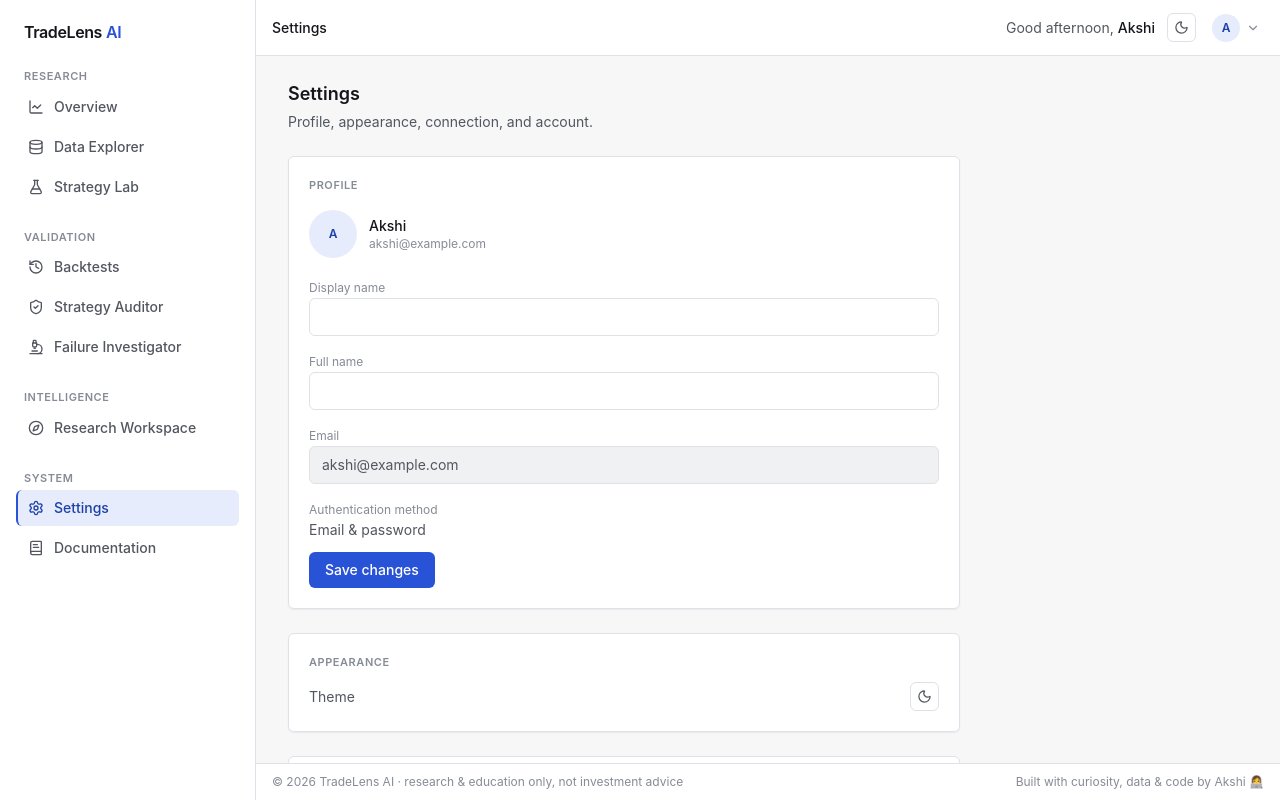
Test: SettingsPage profile update › updates the top-bar greeting immediately after a display-name save, without logout/login
Expected: the heading "Settings" is shown, x1=288 y1=83 x2=360 y2=104
Expected: the text "Akshi" next to "Good afternoon" is shown, x1=1118 y1=18 x2=1155 y2=36
Type "New Display" into the field labelled "Display name". click: (624, 316)
box: x1=309 y1=298 x2=939 y2=336
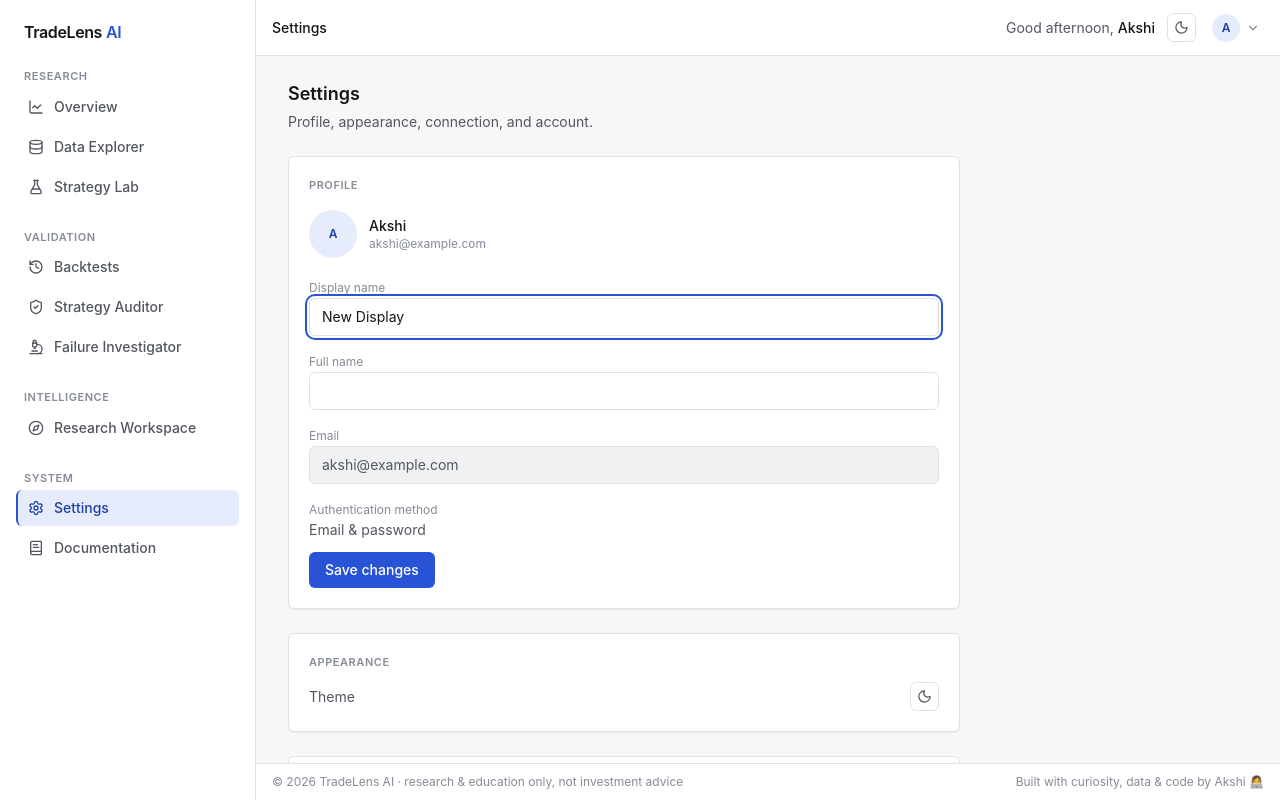
Submit the form labelled "Display name", box x1=309 y1=274 x2=939 y2=588
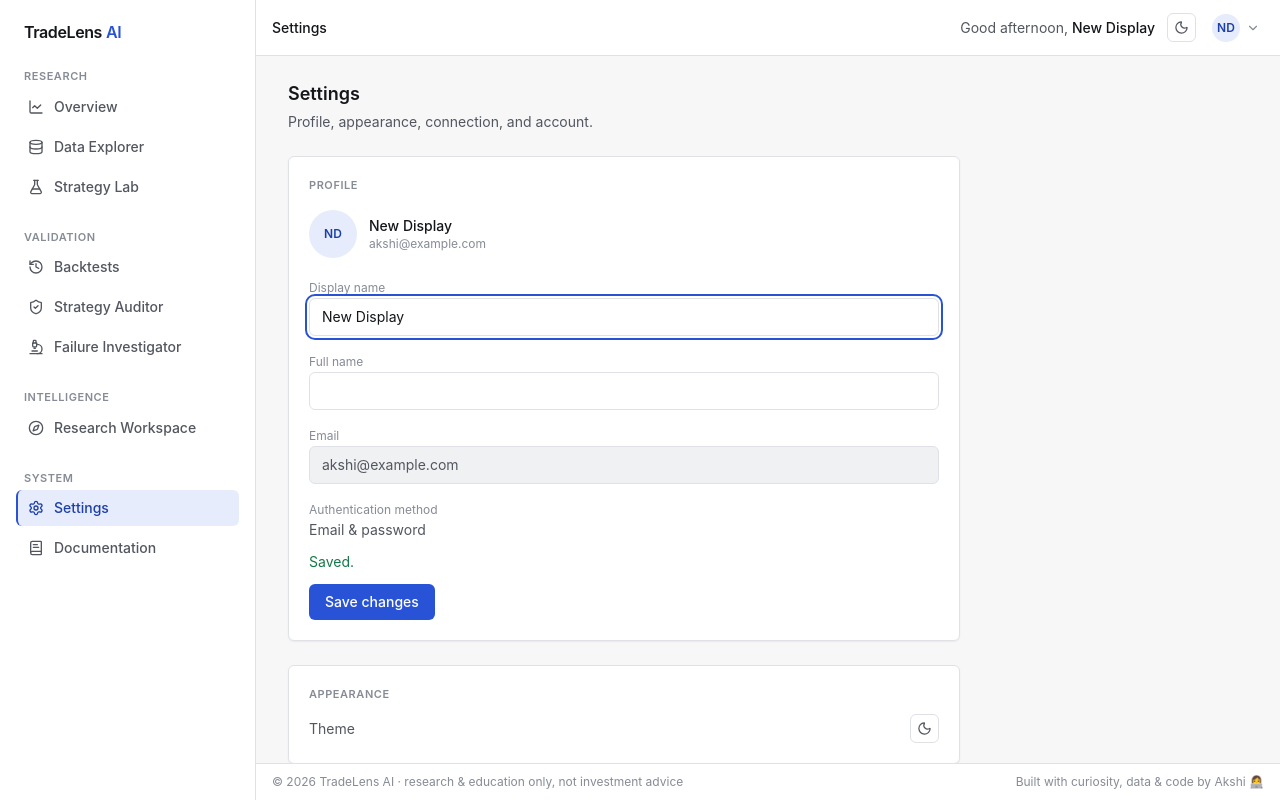
Expected: the text "New Display" next to "Good afternoon" is shown, x1=1072 y1=18 x2=1155 y2=36
